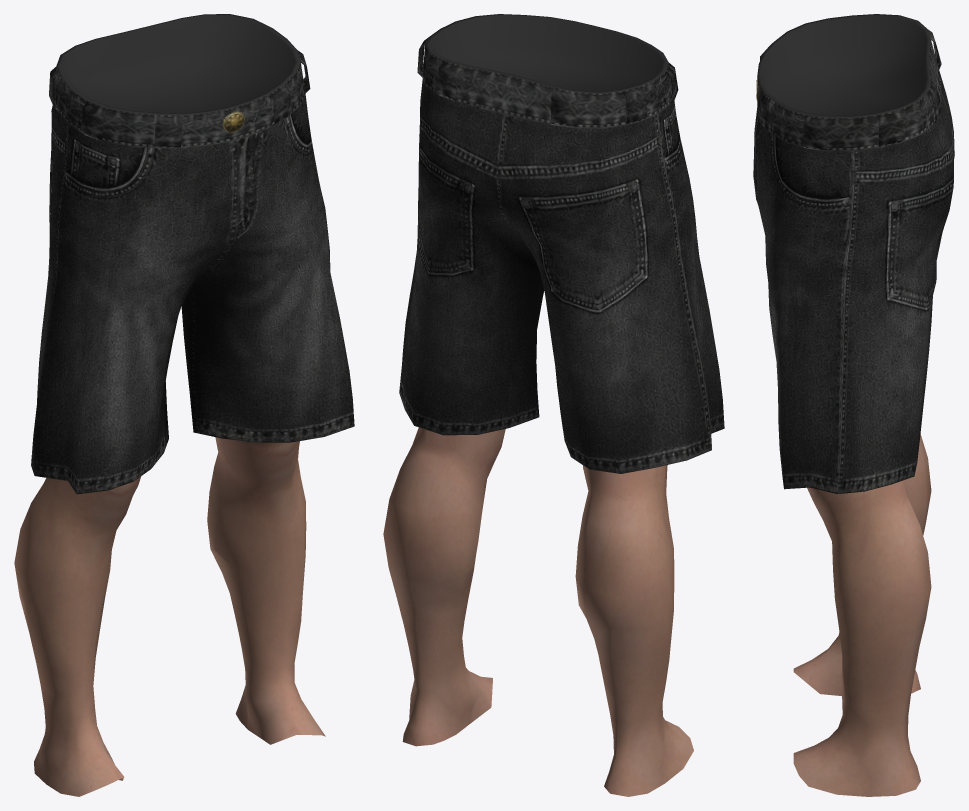
The picture shows the model from 3 angles, left to right: view 1: azimuth 30°, elevation 25°; view 2: azimuth 150°, elevation 25°; view 3: azimuth 270°, elevation 25°; orthographic projection. The views are drawn at different scales.
Visible parts, largest first — view 1: hash_0F485825.model; view 2: hash_0F485825.model; view 3: hash_0F485825.model.
Boxes of the visible parts, x1,y1,x2,y2 form: hash_0F485825.model: (14, 14, 354, 796); hash_0F485825.model: (383, 14, 724, 796); hash_0F485825.model: (753, 14, 954, 796).
Size of the model in its own units: 0.4794 by 1.04 by 0.2806.
